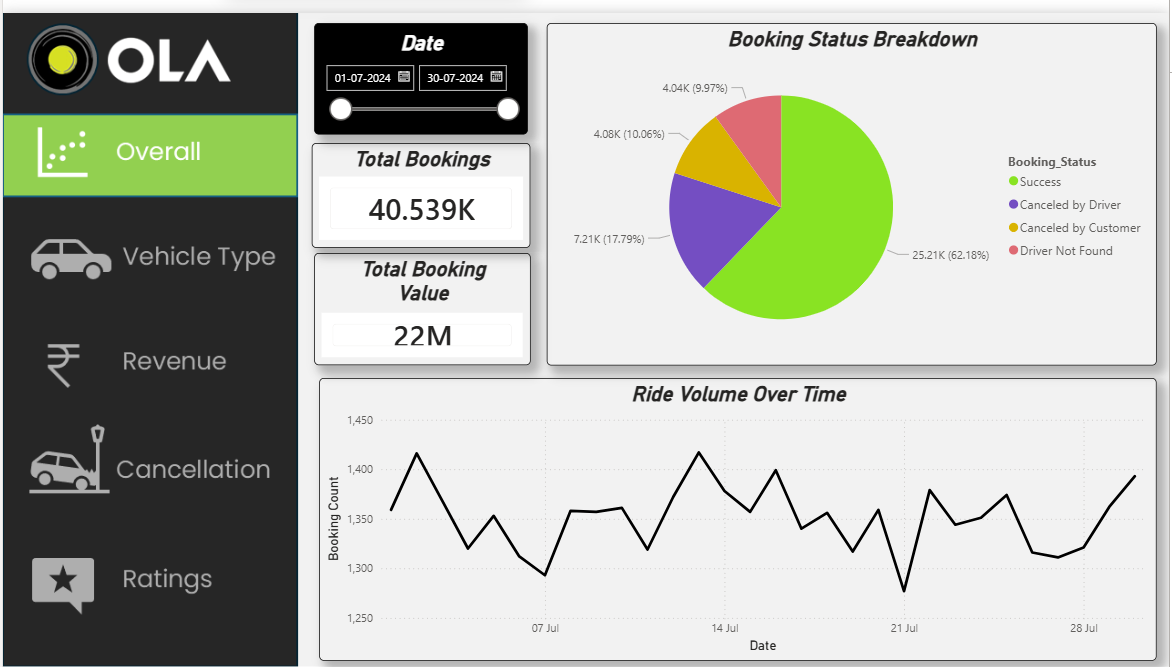

Layout of this report page (visuals, bound fields, positions):
{"tool":"powerbi","page":{"name":"Overall","canvas":[1280,720],"ordinal":0},"visuals":[{"type":"actionButton","box":[0,200.3,325.7,114.6],"z":0},{"type":"actionButton","box":[0,314.9,325.7,114.6],"z":1000},{"type":"actionButton","box":[0,429.5,325.7,114.6],"z":2000},{"type":"actionButton","box":[0,544.1,325.7,114.6],"z":3000},{"type":"pieChart","title":"Booking Status Breakdown","fields":{"Category":["July.Booking_Status"],"Y":["CountNonNull(July.Booking_Status)"]},"box":[596.9,11,669.6,376],"z":4000},{"type":"lineChart","title":"Ride Volume Over Time","fields":{"Y":["CountNonNull(July.Booking_ID)"],"Category":["July.Date"]},"box":[347.2,400.7,919.4,310.1],"z":5000},{"type":"slicer","title":"Date","fields":{"Values":["July.Date"]},"box":[341.2,11,234.8,122.1],"z":6000},{"type":"cardVisual","title":"Total Bookings","fields":{"Data":["CountNonNull(July.Booking_ID)"]},"box":[338.9,142.7,240.1,115.3],"z":7000},{"type":"cardVisual","title":"Total Booking Value","fields":{"Data":["Sum(July.Booking_Value)"]},"box":[341.7,263.5,237.4,123.5],"z":8000}]}

Visuals, with their boxes in screenshot pixels (x1, y1, x2, y2), scaled from the page's 1280x720 canvas onto the 1172x667 screenshot:
actionButton: region(0, 186, 298, 292)
actionButton: region(0, 292, 298, 398)
actionButton: region(0, 398, 298, 504)
actionButton: region(0, 504, 298, 610)
"Booking Status Breakdown" pieChart: region(547, 10, 1160, 359)
"Ride Volume Over Time" lineChart: region(318, 371, 1160, 658)
"Date" slicer: region(312, 10, 527, 123)
"Total Bookings" cardVisual: region(310, 132, 530, 239)
"Total Booking Value" cardVisual: region(313, 244, 530, 359)
